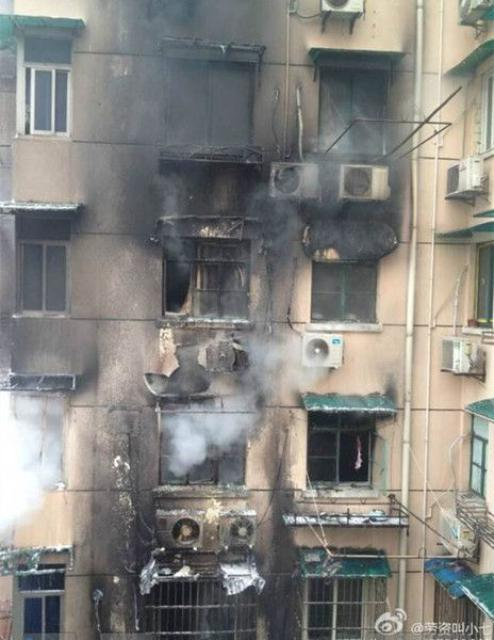smoke: (164, 406, 252, 474), (0, 390, 43, 528)
